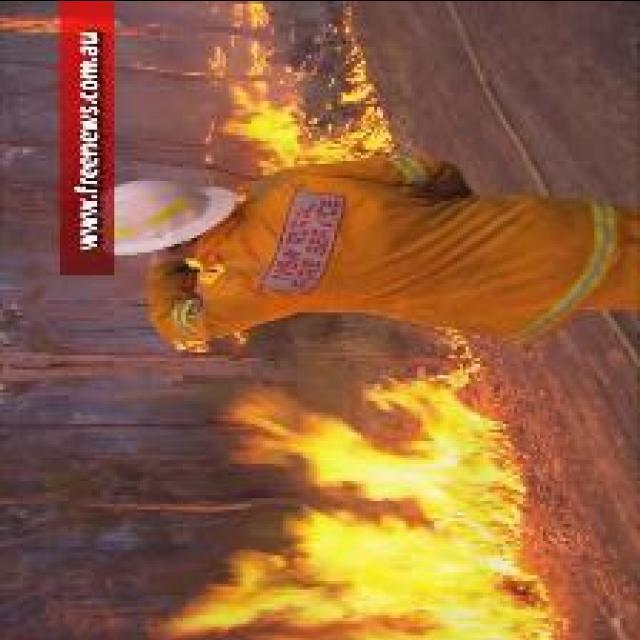Fire: (148, 354, 548, 640), (202, 0, 396, 166), (216, 103, 304, 166)
